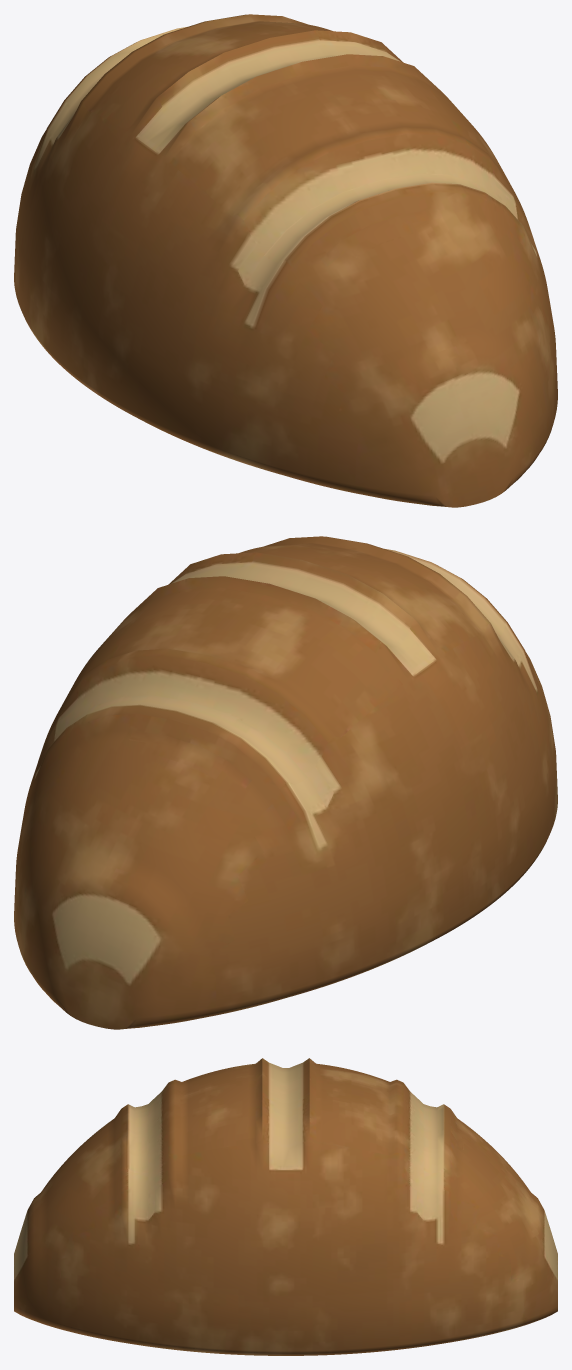
Rendered from pao_caseiro.glb.
3 renders of one model, top to bottom at view 1: azimuth 30°, elevation 25°; view 2: azimuth 150°, elevation 25°; view 3: azimuth 270°, elevation 25°, orthographic. The views are drawn at different scales.
Visible parts, largest first — view 1: pao; view 2: pao; view 3: pao.
Boxes of the visible parts, bbox=[...] form: pao: bbox=[14, 14, 557, 507]; pao: bbox=[14, 536, 557, 1029]; pao: bbox=[14, 1058, 557, 1355].
Bounding box in the file's own units: 0.109 × 0.0815 × 0.1757.
1 material, 1 textured.
